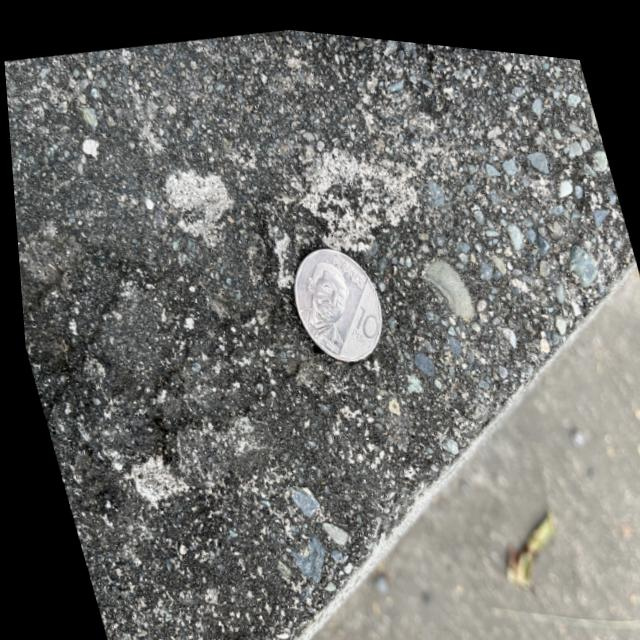10_New_Front: (337, 291, 380, 343)
